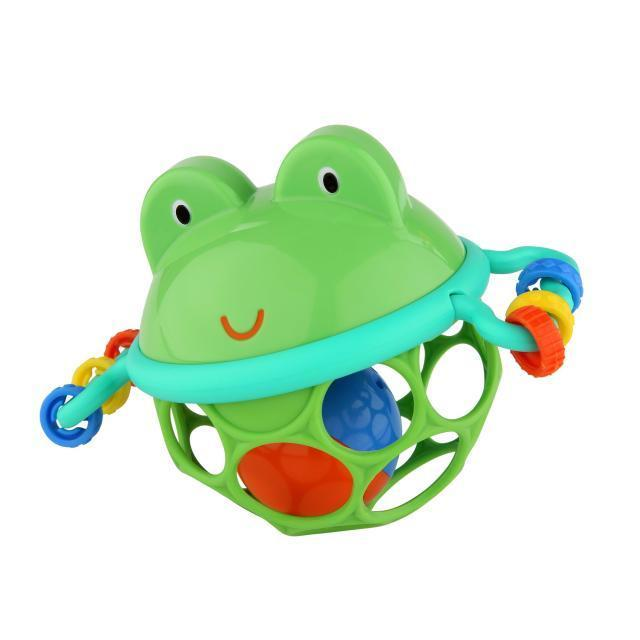hard-toy: (41, 126, 582, 535)
